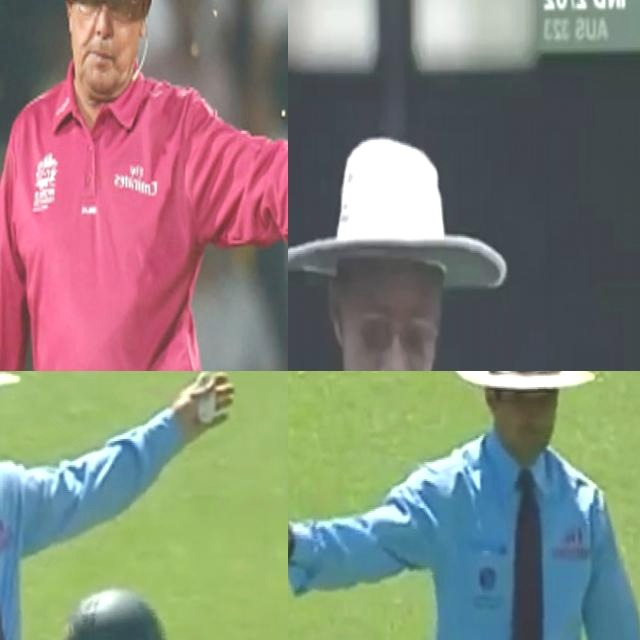No_Action: (288, 121, 574, 371)
No_Ball: (0, 0, 288, 371), (288, 371, 640, 640)
Wide: (0, 371, 268, 640)
